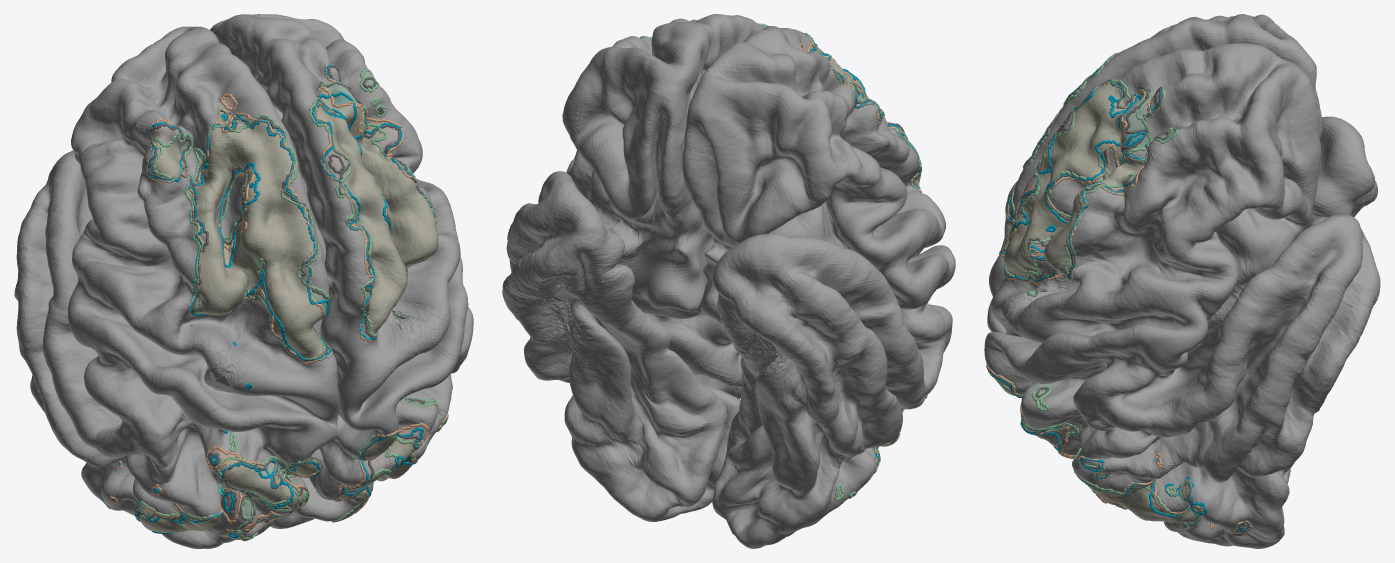
File: posterior_putamen_composite_marginal.glb
3 renders of one model, left to right at view 1: azimuth 30°, elevation 25°; view 2: azimuth 150°, elevation 25°; view 3: azimuth 270°, elevation 25°, orthographic. The views are drawn at different scales.
Parts seen in each view (by area): view 1: world; view 2: world; view 3: world.
Part boxes in pixels (bbox=[...]): world: bbox=[14, 14, 473, 548]; world: bbox=[502, 14, 955, 548]; world: bbox=[984, 14, 1380, 548].
Bounding box in the file's own units: 139 × 174 × 127.
